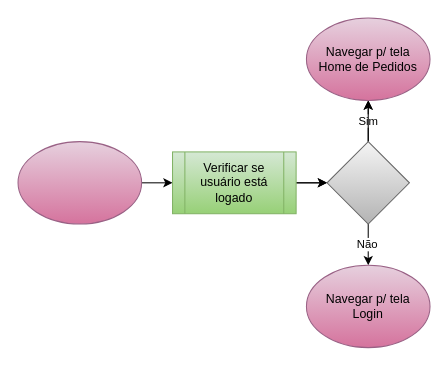
Image size: 448x366. Some labels were removed from this diagram. The centre of each missing label's shape, as x and y in pixels:
Acessar página Gestão de Pedidos: [79,182]
Logado?: [367,182]
